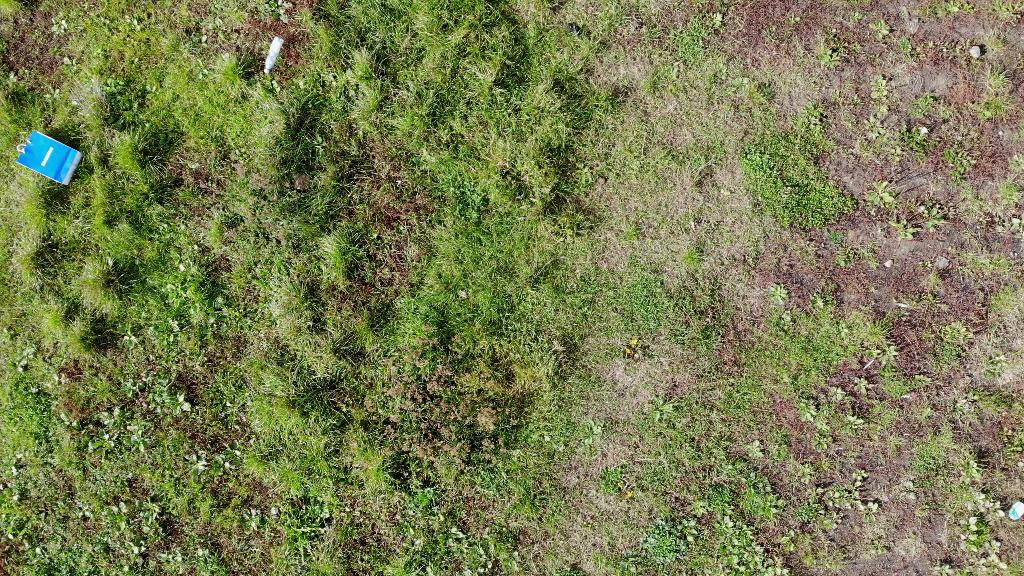garbage: (12, 127, 85, 186), (15, 129, 84, 187), (259, 35, 286, 75), (263, 37, 285, 74), (1006, 501, 1023, 524)
